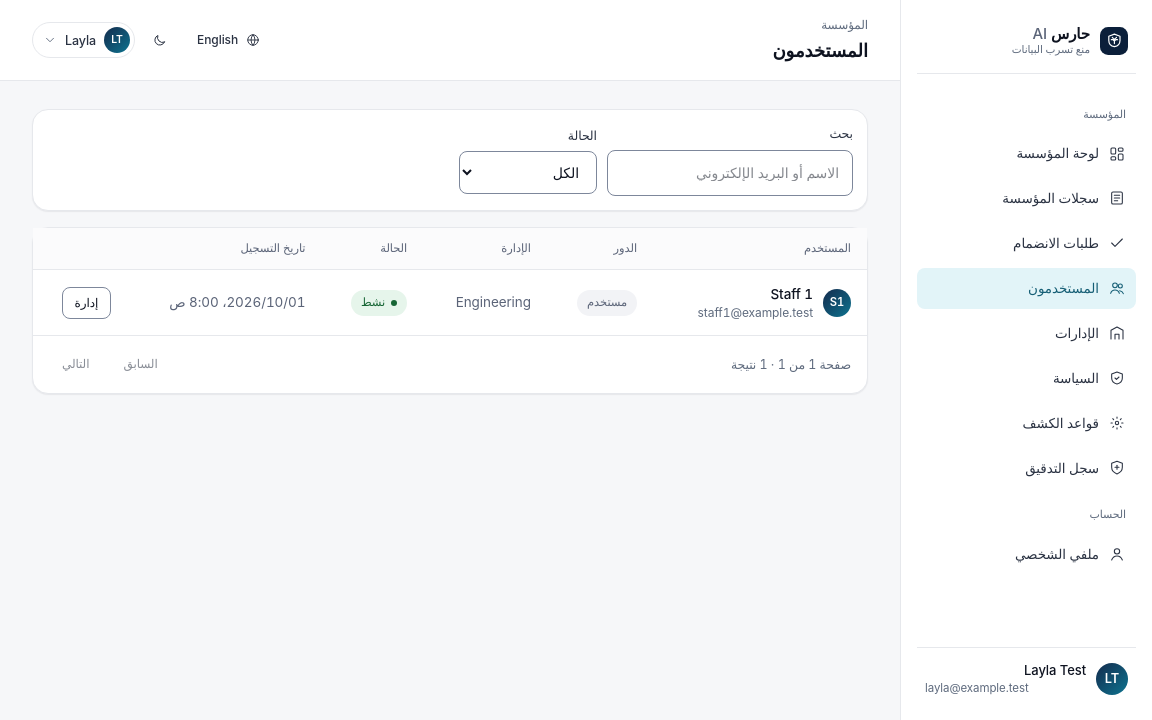
Test case: users management › a refusal from the server is shown in the dialog
Click the button "إدارة": (86, 303) [62, 286, 111, 319]
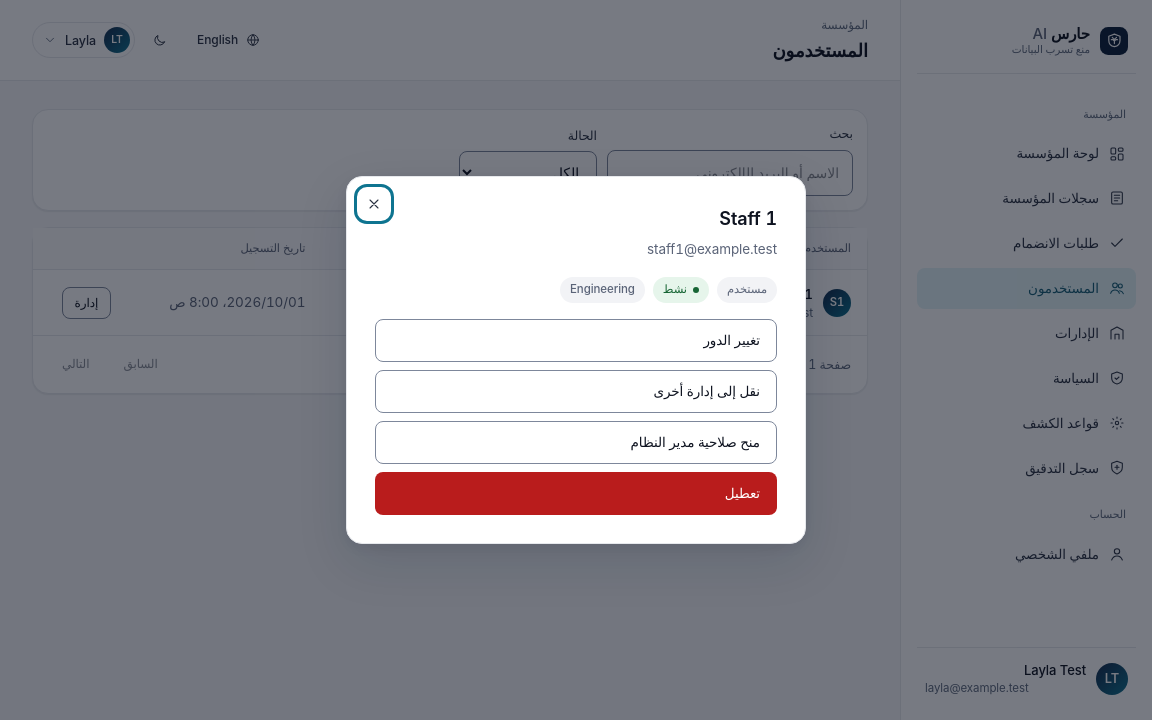
Click the button "تعطيل": (742, 493) [375, 472, 777, 515]
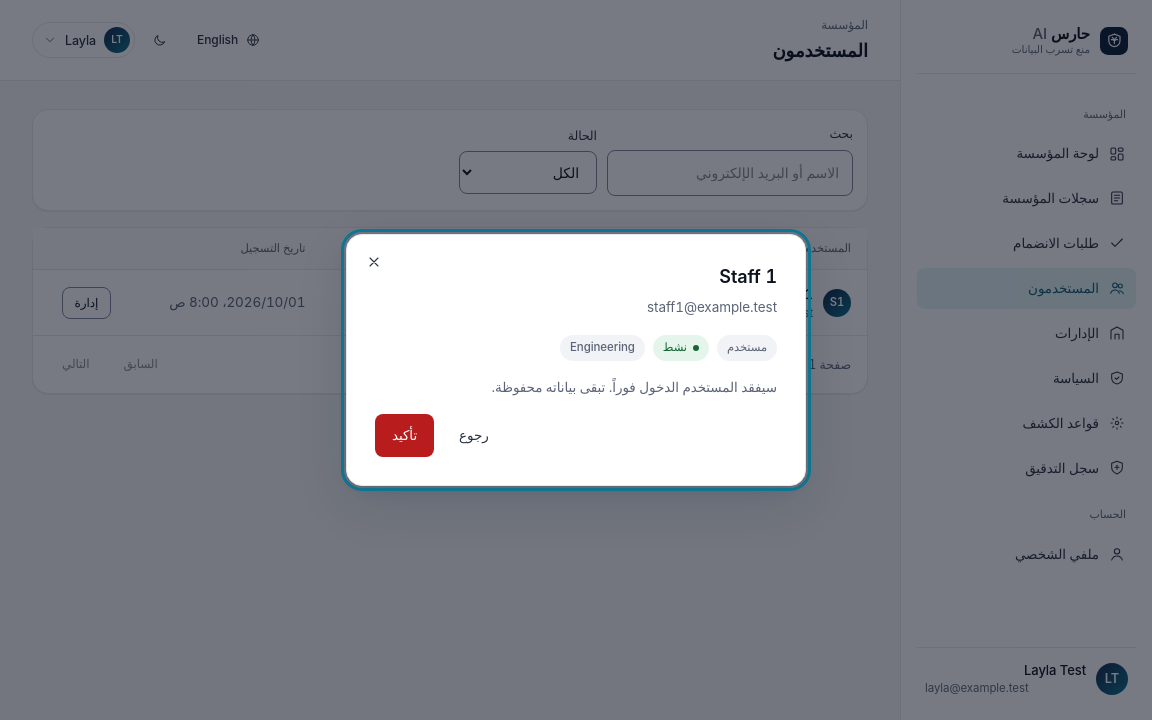
Click the button "تأكيد": (405, 435) [375, 414, 434, 457]
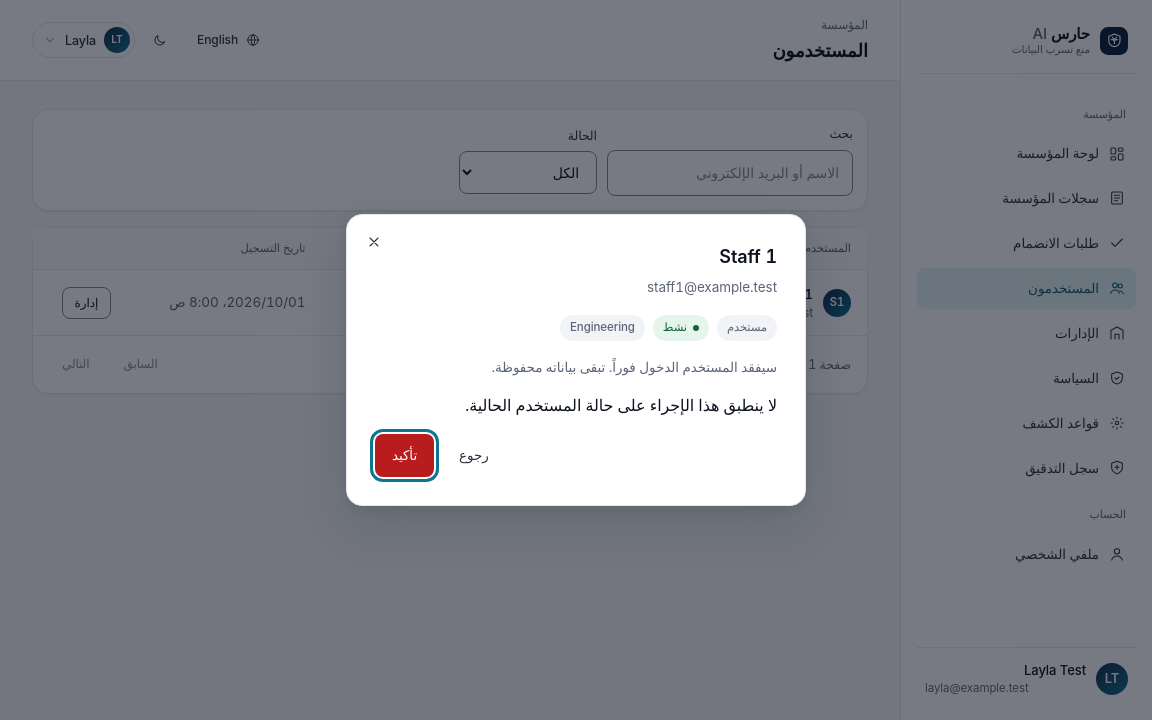
Result: the text "لا ينطبق هذا الإجراء على حالة المستخدم الحالية." is shown at [465, 396, 777, 416]
